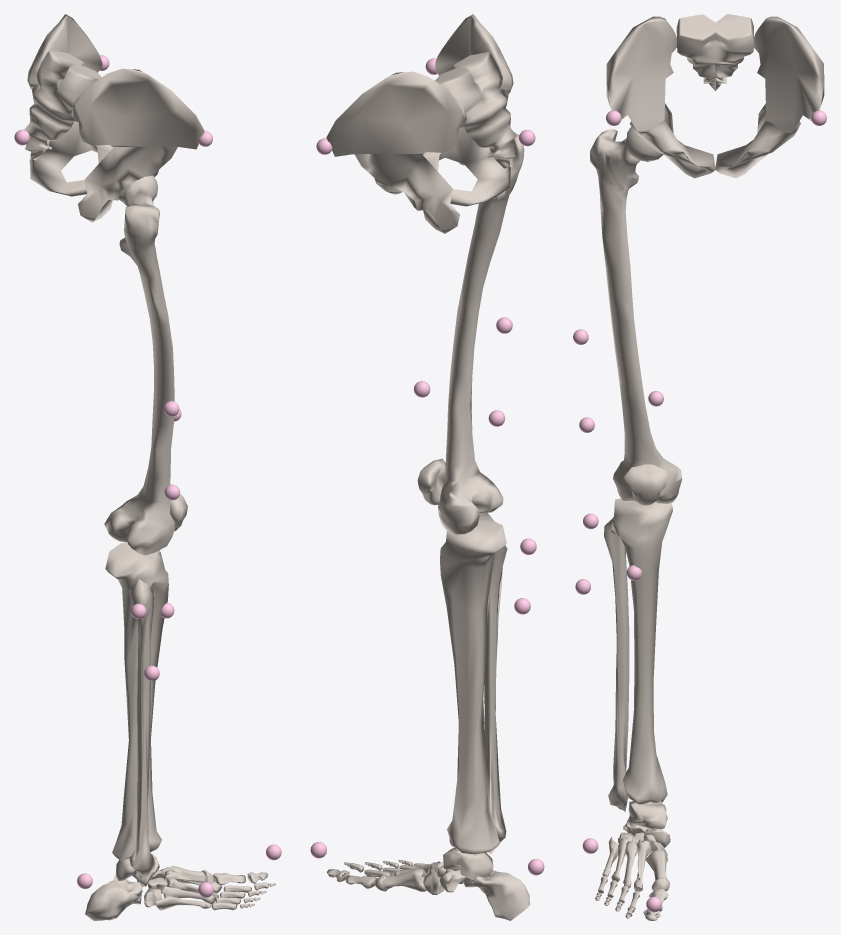
Rendered from leg39.gltf.
3 views of the same model, side by side, from view 1: azimuth 30°, elevation 25°; view 2: azimuth 150°, elevation 25°; view 3: azimuth 270°, elevation 25° (orthographic). The views are drawn at different scales.
Parts seen in each view (by area): view 1: MeshGeometry\pelvis.vtp, MeshGeometry\femur_r.vtp, MeshGeometry\tibia_r.vtp, MeshGeometry\l_pelvis.vtp, MeshGeometry\sacrum.vtp, MeshGeometry\fibula_R.vtp, MeshGeometry\foot.vtp, MeshGeometry\bofoot.vtp, MeshGeometry\talus.vtp; view 2: MeshGeometry\l_pelvis.vtp, MeshGeometry\tibia_r.vtp, MeshGeometry\femur_r.vtp, MeshGeometry\pelvis.vtp, MeshGeometry\sacrum.vtp, MeshGeometry\foot.vtp, MeshGeometry\fibula_R.vtp, MeshGeometry\bofoot.vtp, MeshGeometry\talus.vtp, MeshGeometry\pat.vtp; view 3: MeshGeometry\femur_r.vtp, MeshGeometry\tibia_r.vtp, MeshGeometry\l_pelvis.vtp, MeshGeometry\pelvis.vtp, MeshGeometry\sacrum.vtp, MeshGeometry\fibula_R.vtp, MeshGeometry\foot.vtp, MeshGeometry\pat.vtp, MeshGeometry\talus.vtp, MeshGeometry\bofoot.vtp.
Part boxes in pixels (box(x1,y1,x2,y2)): MeshGeometry\pelvis.vtp: box(71, 68, 204, 222); MeshGeometry\femur_r.vtp: box(104, 175, 174, 555); MeshGeometry\tibia_r.vtp: box(105, 542, 168, 861); MeshGeometry\l_pelvis.vtp: box(27, 14, 112, 196); MeshGeometry\sacrum.vtp: box(24, 50, 101, 160); MeshGeometry\fibula_R.vtp: box(128, 578, 154, 877); MeshGeometry\foot.vtp: box(85, 865, 221, 920); MeshGeometry\bofoot.vtp: box(211, 871, 275, 910); MeshGeometry\talus.vtp: box(116, 854, 159, 886); MeshGeometry\l_pelvis.vtp: box(326, 71, 466, 233); MeshGeometry\tibia_r.vtp: box(440, 513, 506, 854); MeshGeometry\femur_r.vtp: box(438, 132, 524, 534); MeshGeometry\pelvis.vtp: box(423, 14, 513, 206); MeshGeometry\sacrum.vtp: box(435, 52, 516, 168); MeshGeometry\foot.vtp: box(375, 861, 529, 920); MeshGeometry\fibula_R.vtp: box(484, 545, 507, 854); MeshGeometry\bofoot.vtp: box(327, 860, 428, 889); MeshGeometry\talus.vtp: box(443, 847, 493, 880); MeshGeometry\pat.vtp: box(417, 458, 445, 505); MeshGeometry\femur_r.vtp: box(590, 127, 681, 503); MeshGeometry\tibia_r.vtp: box(613, 498, 672, 804); MeshGeometry\l_pelvis.vtp: box(715, 16, 824, 178); MeshGeometry\pelvis.vtp: box(606, 16, 715, 178); MeshGeometry\sacrum.vtp: box(676, 14, 753, 90); MeshGeometry\fibula_R.vtp: box(604, 517, 629, 811); MeshGeometry\foot.vtp: box(602, 815, 670, 891); MeshGeometry\pat.vtp: box(624, 464, 667, 505); MeshGeometry\talus.vtp: box(627, 801, 667, 830); MeshGeometry\bofoot.vtp: box(595, 876, 668, 920).
Bounding box in the file's own units: 0.348 × 1.18 × 0.3241.
